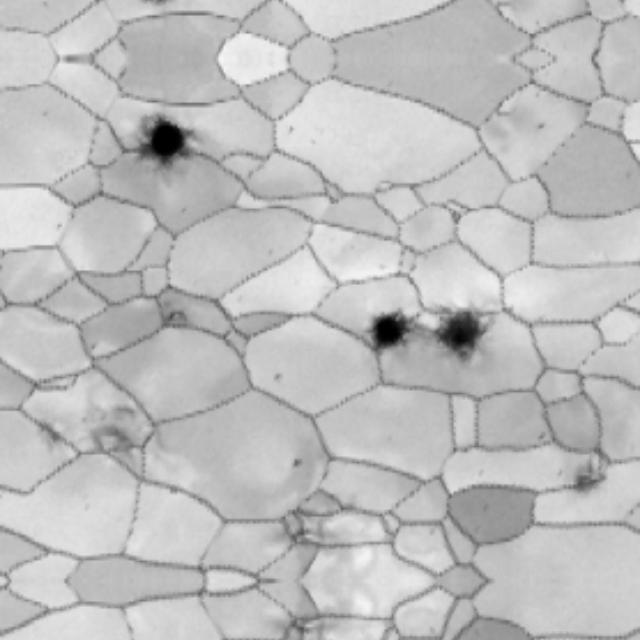good_void: (36, 395, 150, 464), (122, 104, 205, 175), (426, 300, 501, 369), (550, 446, 617, 511), (368, 311, 424, 358), (153, 297, 194, 339), (290, 456, 307, 475), (269, 369, 286, 388), (534, 431, 551, 448), (533, 116, 548, 135), (283, 125, 297, 138)
